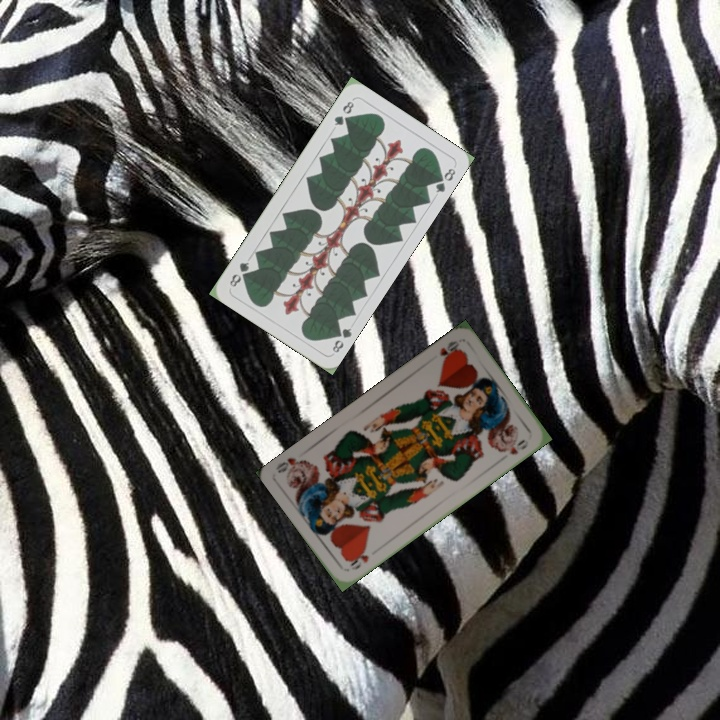G8: (330, 95, 357, 128), (328, 323, 354, 355)
HO: (436, 336, 463, 364), (345, 545, 371, 573)
